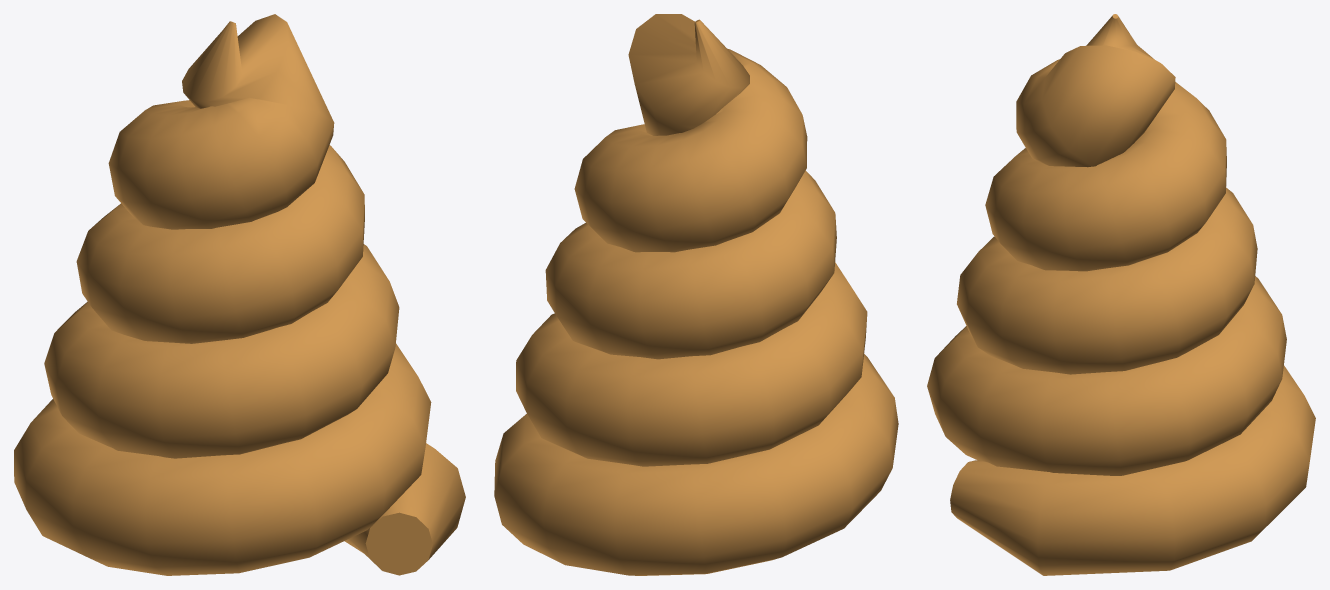
Rendered from Unko.fbx.
The picture shows the model from 3 angles, left to right: view 1: azimuth 30°, elevation 25°; view 2: azimuth 150°, elevation 25°; view 3: azimuth 270°, elevation 25°; orthographic projection. The views are drawn at different scales.
Parts seen in each view (by area): view 1: Spiral; view 2: Spiral; view 3: Spiral.
Boxes of the visible parts, <box> form: Spiral: <box>14,14,465,575</box>; Spiral: <box>494,14,898,575</box>; Spiral: <box>927,14,1315,575</box>.
Bounding box in the file's own units: 432 × 602 × 428.
